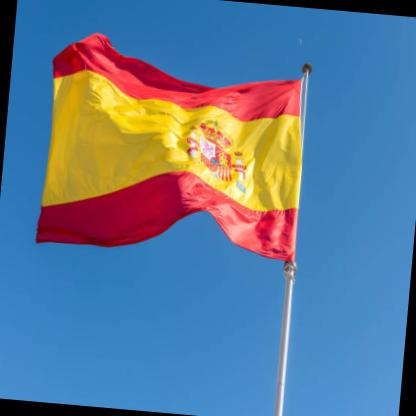es: (33, 22, 315, 280)
